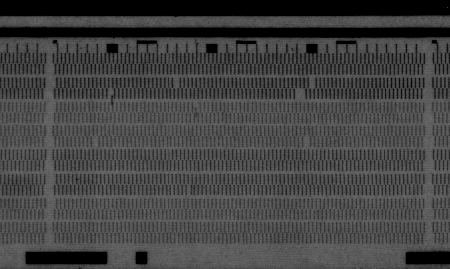Broken hole: (292, 88, 308, 101), (170, 76, 183, 89), (89, 136, 101, 148), (306, 78, 318, 90), (301, 136, 313, 148)
Oblique printing: (105, 86, 117, 104), (191, 100, 202, 116), (185, 184, 197, 197)
